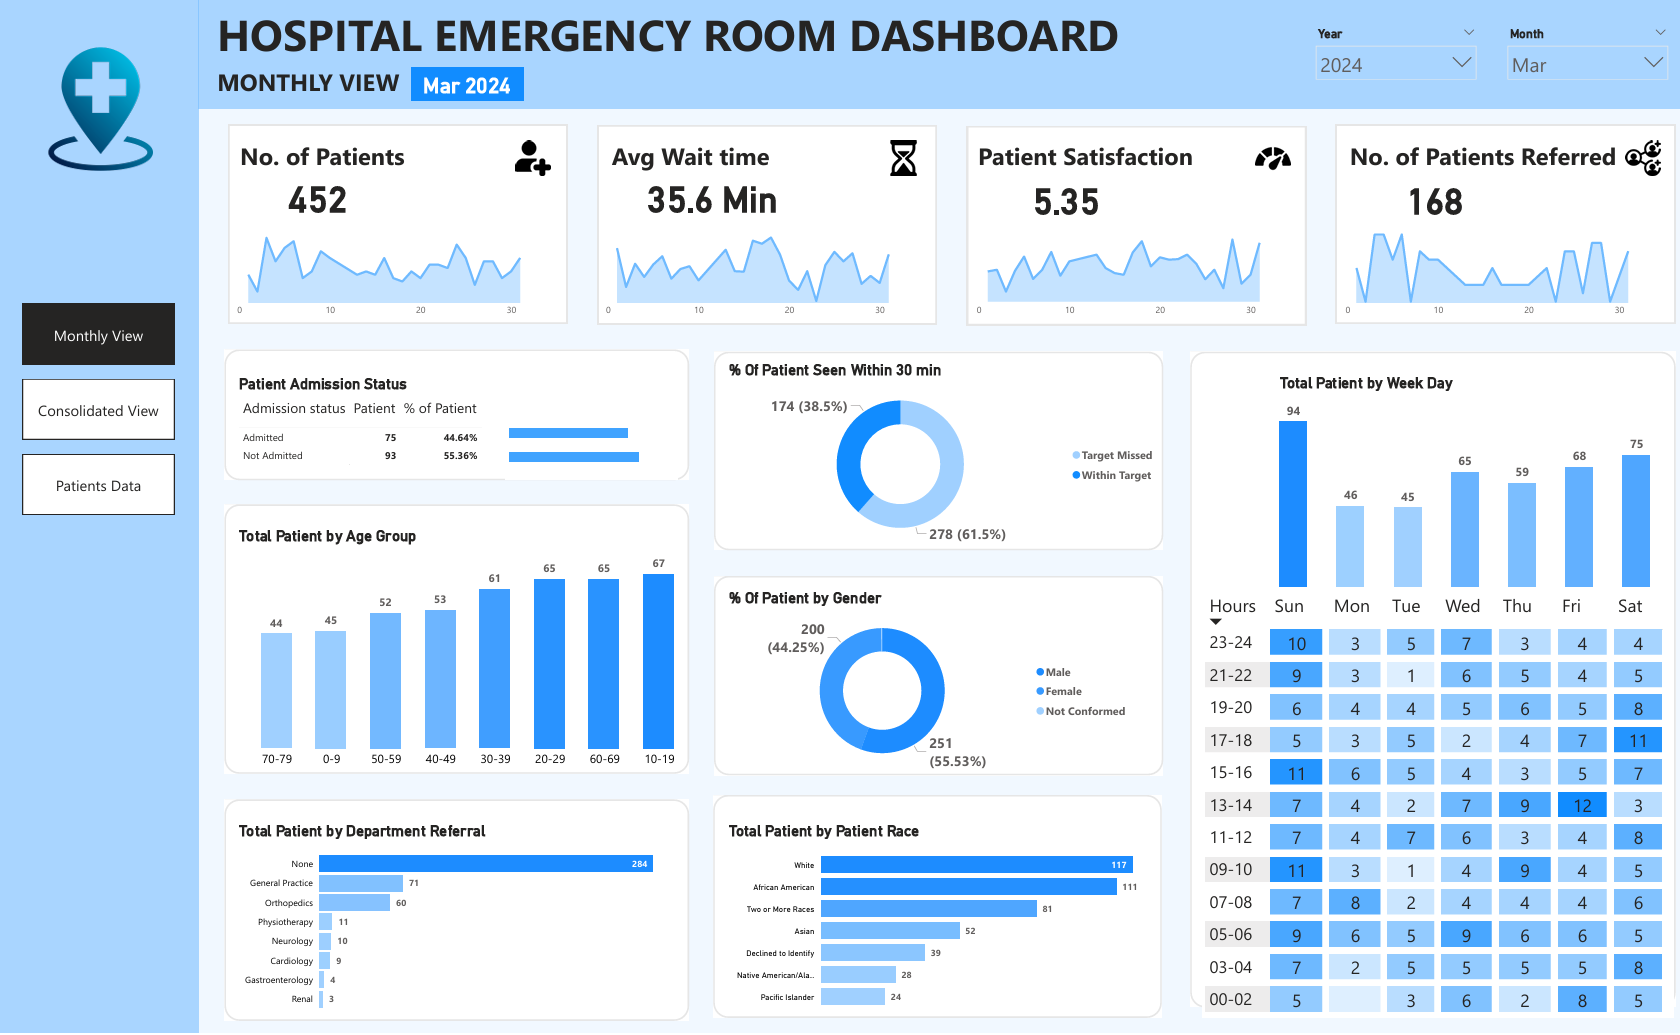

The page's visual inventory and layout, read from the dashboard file:
{"tool":"powerbi","page":{"name":"Monthly View","canvas":[2300,1400],"ordinal":0},"visuals":[{"type":"shape","box":[310,167.5,460,270],"z":0},{"type":"card","fields":{"Values":["Hospital ER_Data.Total Patient"]},"box":[305,225,252.5,77.5],"z":1000},{"type":"shape","box":[270,0,2030,147],"z":2000},{"type":"slicer","fields":{"Values":["Date.Year"]},"box":[1775,30,237.5,80],"z":3000},{"type":"slicer","fields":{"Values":["Date.Month"]},"box":[2035,30,237.5,80],"z":4000},{"type":"shape","box":[0,0,270,1400],"z":5000},{"type":"textbox","box":[290,0,1262.5,97.5],"z":6000},{"type":"textbox","box":[290,82.5,285,57.5],"z":7000},{"type":"textbox","box":[321,183.1,285.3,59.4],"z":8000},{"type":"areaChart","fields":{"Category":["Date.Date.Variation.Date Hierarchy.Day"],"Y":["CountNonNull(Hospital ER_Data.Admission Date)"]},"box":[310,302.5,460,135],"z":9000},{"type":"card","fields":{"Values":["Min(Date.Month and Year)"]},"box":[557.5,90,152.5,45],"z":10000},{"type":"shape","box":[810.8,169.2,460,270],"z":11000},{"type":"shape","box":[1311.7,170,460,270],"z":12000},{"type":"shape","box":[1812.5,168.3,460,270],"z":13000},{"type":"textbox","box":[825.1,183.1,285.3,59.4],"z":14000},{"type":"card","fields":{"Values":["Hospital ER_Data.Avg wait time"]},"box":[860,225,212.5,77.5],"z":15000},{"type":"areaChart","fields":{"Category":["Date.Date.Variation.Date Hierarchy.Day"],"Y":["Avg(Hospital ER_Data.Patient Waittime)"]},"box":[810,302.5,460,135],"z":16000},{"type":"textbox","box":[1322,183.1,458.9,59.4],"z":17000},{"type":"textbox","box":[1826.1,183.1,378.1,59.4],"z":18000},{"type":"card","fields":{"Values":["Hospital ER_Data.Score of Satisfication"]},"box":[1340,227.5,212.5,77.5],"z":19000},{"type":"card","fields":{"Values":["Hospital ER_Data.No of patient ref"]},"box":[1840,227.5,212.5,77.5],"z":20000},{"type":"areaChart","fields":{"Category":["Date.Date.Variation.Date Hierarchy.Day"],"Y":["Avg(Hospital ER_Data.Patient Satisfaction Score)"]},"box":[1312.5,302.5,460,135],"z":21000},{"type":"areaChart","fields":{"Category":["Date.Date.Variation.Date Hierarchy.Day"],"Y":["Hospital ER_Data.No of patient ref"]},"box":[1812.5,302.5,460,135],"z":22000},{"type":"shape","box":[305,472.5,630,177.5],"z":23000},{"type":"pivotTable","title":"Patient Admission Status","fields":{"Rows":["Hospital ER_Data.Admission status"],"Values":["Hospital ER_Data.No of patient ref1","Hospital ER_Data.No of patient ref"]},"box":[320,507.5,490,155],"z":24000},{"type":"barChart","fields":{"Category":["Hospital ER_Data.Admission status"],"Y":["Hospital ER_Data.Total Patient"]},"box":[686,550.1,234.5,98.6],"z":25000},{"type":"shape","box":[305,682.5,630,365],"z":26000},{"type":"clusteredColumnChart","fields":{"Category":["Hospital ER_Data.Age Group"],"Y":["Hospital ER_Data.Total Patient"]},"box":[320,714.5,631.2,335.3],"z":27000},{"type":"shape","box":[305,1082.5,630,300],"z":28000},{"type":"clusteredBarChart","fields":{"Category":["Hospital ER_Data.Department Referral"],"Y":["Hospital ER_Data.Total Patient"]},"box":[320,1113.3,600.5,267.4],"z":29000},{"type":"shape","box":[968.7,475.6,609.3,269.6],"z":30000},{"type":"donutChart","title":"% Of Patient Seen Within 30 min","fields":{"Category":["Hospital ER_Data.Waittime"],"Y":["Hospital ER_Data.Total Patient"]},"box":[984,488.7,593.9,256.4],"z":31000},{"type":"shape","box":[968.7,780.2,609.3,269.6],"z":32000},{"type":"donutChart","title":"% Of Patient by Gender","fields":{"Y":["Hospital ER_Data.Total Patient"],"Category":["Hospital ER_Data.Patient Gender"]},"box":[984.4,796.5,556.4,254.4],"z":33000},{"type":"shape","box":[967.7,1077.1,608.7,302],"z":34000},{"type":"clusteredBarChart","fields":{"Y":["Hospital ER_Data.Total Patient"],"Category":["Hospital ER_Data.Patient Race"]},"box":[984.4,1112.8,584.9,266.3],"z":35000},{"type":"shape","box":[1615.2,475.6,657.5,889.8],"z":36000},{"type":"pivotTable","fields":{"Rows":["Hospital ER_Data.Waittime interval"],"Columns":["Date.Week Day"],"Values":["Hospital ER_Data.Total Patient"]},"box":[1631.1,796.5,639.6,582.5],"z":37000},{"type":"columnChart","fields":{"Category":["Date.Week Day"],"Y":["Hospital ER_Data.Total Patient"]},"box":[1731,506.5,516,294.8],"z":38000},{"type":"image","box":[47.6,49.9,178.3,192.6],"z":39000},{"type":"image","box":[680,185.5,88,57.1],"z":40000},{"type":"image","box":[1181.7,185.5,88,57.1],"z":41000},{"type":"image","box":[2185.1,185.5,88,57.1],"z":42000},{"type":"image","box":[1683.4,185.5,88,57.1],"z":43000},{"type":"pageNavigator","box":[30.9,411.3,206.9,287.7],"z":44000}]}

Visuals, with their boxes in screenshot pixels (x1, y1, x2, y2), scaled from the page's 2300x1400 canvas onto the 1680x1035 screenshot:
shape: box=[226, 124, 562, 323]
card - Hospital ER_Data.Total Patient: box=[223, 166, 407, 224]
shape: box=[197, 0, 1679, 109]
slicer - Date.Year: box=[1297, 22, 1470, 81]
slicer - Date.Month: box=[1486, 22, 1660, 81]
shape: box=[0, 0, 197, 1034]
textbox: box=[212, 0, 1134, 72]
textbox: box=[212, 61, 420, 104]
textbox: box=[234, 135, 443, 179]
areaChart - Date.Date.Variation.Date Hierarchy.Day x CountNonNull(Hospital ER_Data.Admission Date): box=[226, 224, 562, 323]
card - Min(Date.Month and Year): box=[407, 67, 519, 100]
shape: box=[592, 125, 928, 325]
shape: box=[958, 126, 1294, 325]
shape: box=[1324, 124, 1660, 324]
textbox: box=[603, 135, 811, 179]
card - Hospital ER_Data.Avg wait time: box=[628, 166, 783, 224]
areaChart - Date.Date.Variation.Date Hierarchy.Day x Avg(Hospital ER_Data.Patient Waittime): box=[592, 224, 928, 323]
textbox: box=[966, 135, 1301, 179]
textbox: box=[1334, 135, 1610, 179]
card - Hospital ER_Data.Score of Satisfication: box=[979, 168, 1134, 225]
card - Hospital ER_Data.No of patient ref: box=[1344, 168, 1499, 225]
areaChart - Date.Date.Variation.Date Hierarchy.Day x Avg(Hospital ER_Data.Patient Satisfaction Score): box=[959, 224, 1295, 323]
areaChart - Date.Date.Variation.Date Hierarchy.Day x Hospital ER_Data.No of patient ref: box=[1324, 224, 1660, 323]
shape: box=[223, 349, 683, 481]
"Patient Admission Status" pivotTable: box=[234, 375, 592, 490]
barChart - Hospital ER_Data.Admission status x Hospital ER_Data.Total Patient: box=[501, 407, 672, 480]
shape: box=[223, 505, 683, 774]
clusteredColumnChart - Hospital ER_Data.Age Group x Hospital ER_Data.Total Patient: box=[234, 528, 695, 776]
shape: box=[223, 800, 683, 1022]
clusteredBarChart - Hospital ER_Data.Department Referral x Hospital ER_Data.Total Patient: box=[234, 823, 672, 1021]
shape: box=[708, 352, 1153, 551]
"% Of Patient Seen Within 30 min" donutChart: box=[719, 361, 1153, 551]
shape: box=[708, 577, 1153, 776]
"% Of Patient by Gender" donutChart: box=[719, 589, 1125, 777]
shape: box=[707, 796, 1151, 1020]
clusteredBarChart - Hospital ER_Data.Total Patient x Hospital ER_Data.Patient Race: box=[719, 823, 1146, 1020]
shape: box=[1180, 352, 1660, 1009]
pivotTable - Hospital ER_Data.Waittime interval x Date.Week Day: box=[1191, 589, 1659, 1019]
columnChart - Date.Week Day x Hospital ER_Data.Total Patient: box=[1264, 374, 1641, 592]
image: box=[35, 37, 165, 179]
image: box=[497, 137, 561, 179]
image: box=[863, 137, 927, 179]
image: box=[1596, 137, 1660, 179]
image: box=[1230, 137, 1294, 179]
pageNavigator: box=[23, 304, 174, 517]
